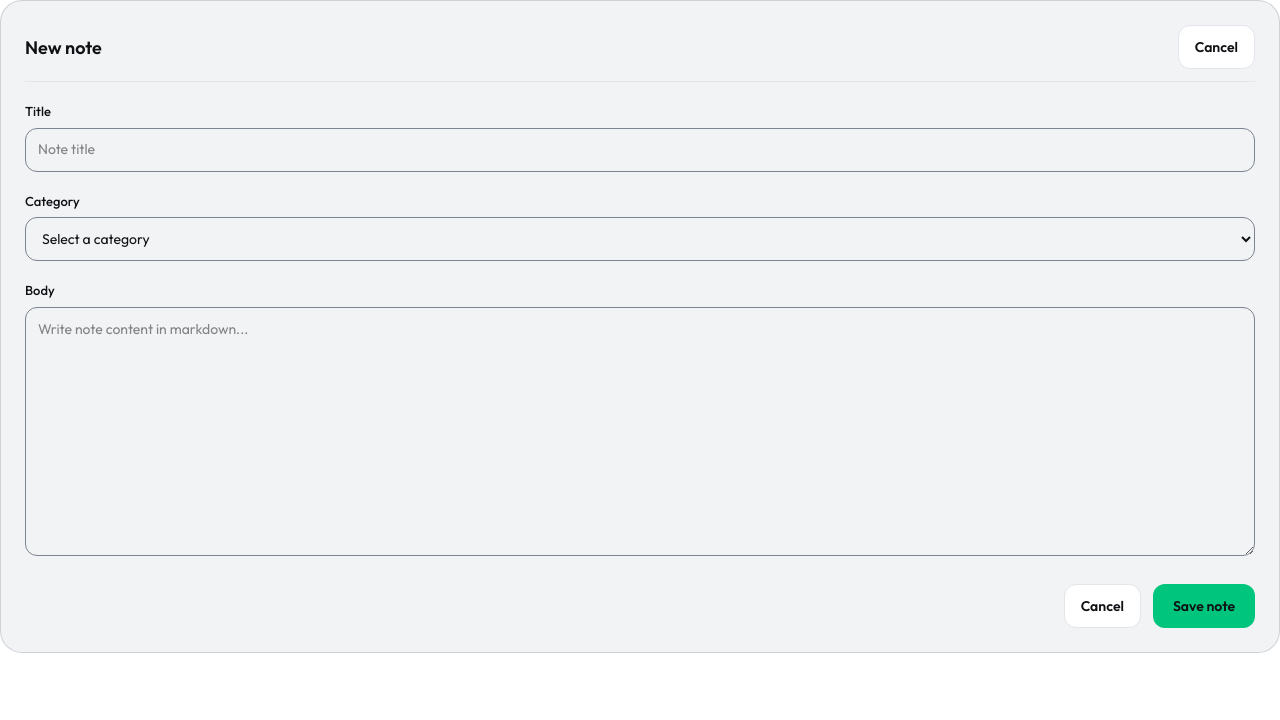
Test: NoteEditor › renders fields with labels and inline validation for required title and category
Check: the field labelled "Title" is shown, box left=25, top=128, right=1255, bottom=172
Check: the dropdown labelled "Category" is shown, box left=25, top=217, right=1255, bottom=261
Note: Try submitting empty form
Click the button "Save note" at (1204, 606), box left=1153, top=584, right=1255, bottom=628
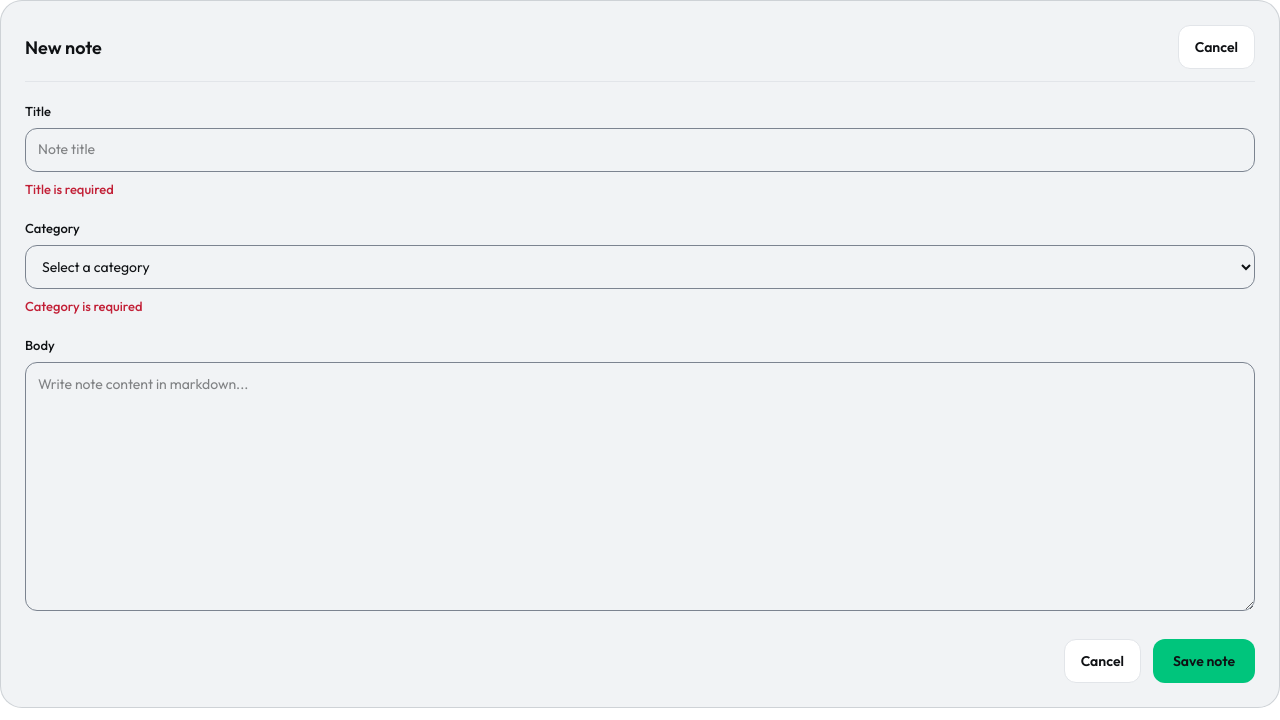
Check: the text "Title is required" is shown, box left=25, top=180, right=114, bottom=196
Check: the text "Category is required" is shown, box left=25, top=298, right=142, bottom=314
